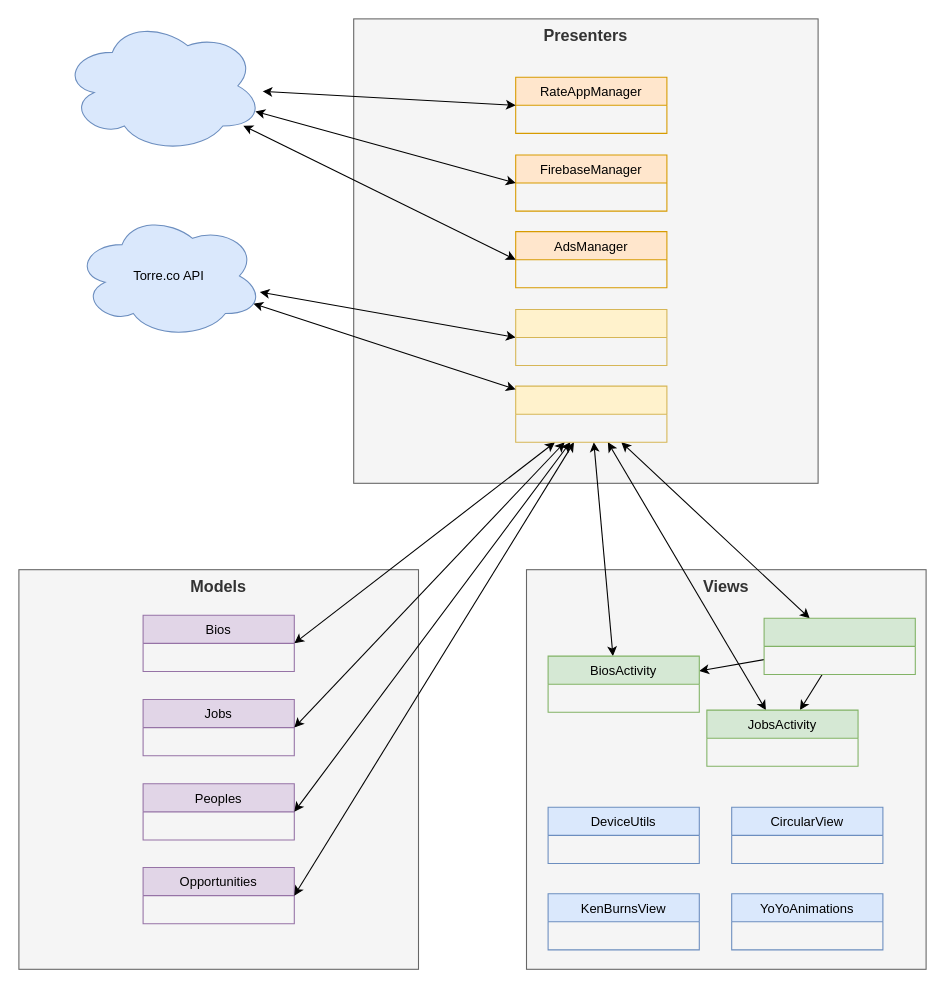
This 945x988 diagram has some shape labels left out. The shapes that lost their labels are listed below. From the top down, each one's centre as x and y in pixels, then its label:
At pixel 162 85: "Google Cloud".
At pixel 591 337: "Picasso".
At pixel 591 413: "Retrofit".
At pixel 839 645: "MainActivity".
